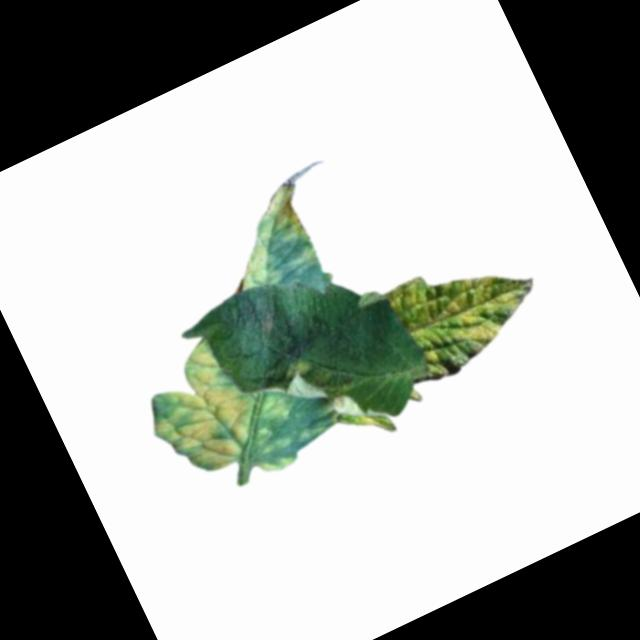Leaf_Mold: (383, 227, 557, 386), (124, 331, 271, 486), (204, 179, 322, 298), (258, 385, 300, 427), (274, 346, 316, 385)
